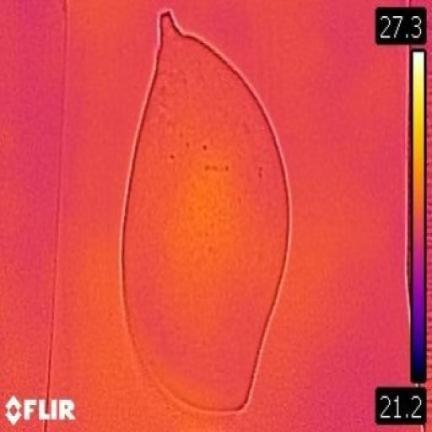mango: (124, 11, 288, 412)
